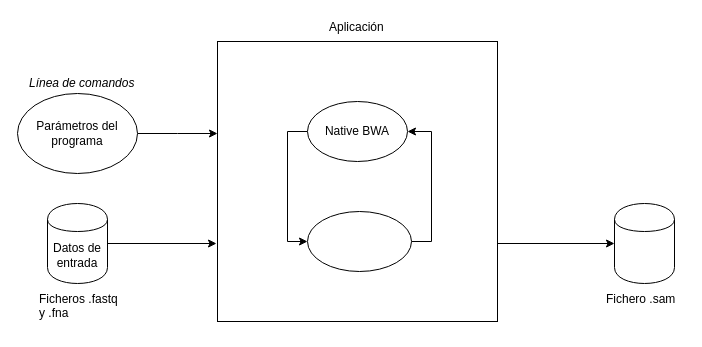
Image size: 702x347. Some labels were removed from this diagram. The shapes that lost their labels are listed below. From the top down, each one's centre as x and y in pixels, then its label:
At (x=359, y=241): "FlinkBWA".
At (x=644, y=243): "Datos de salida".
